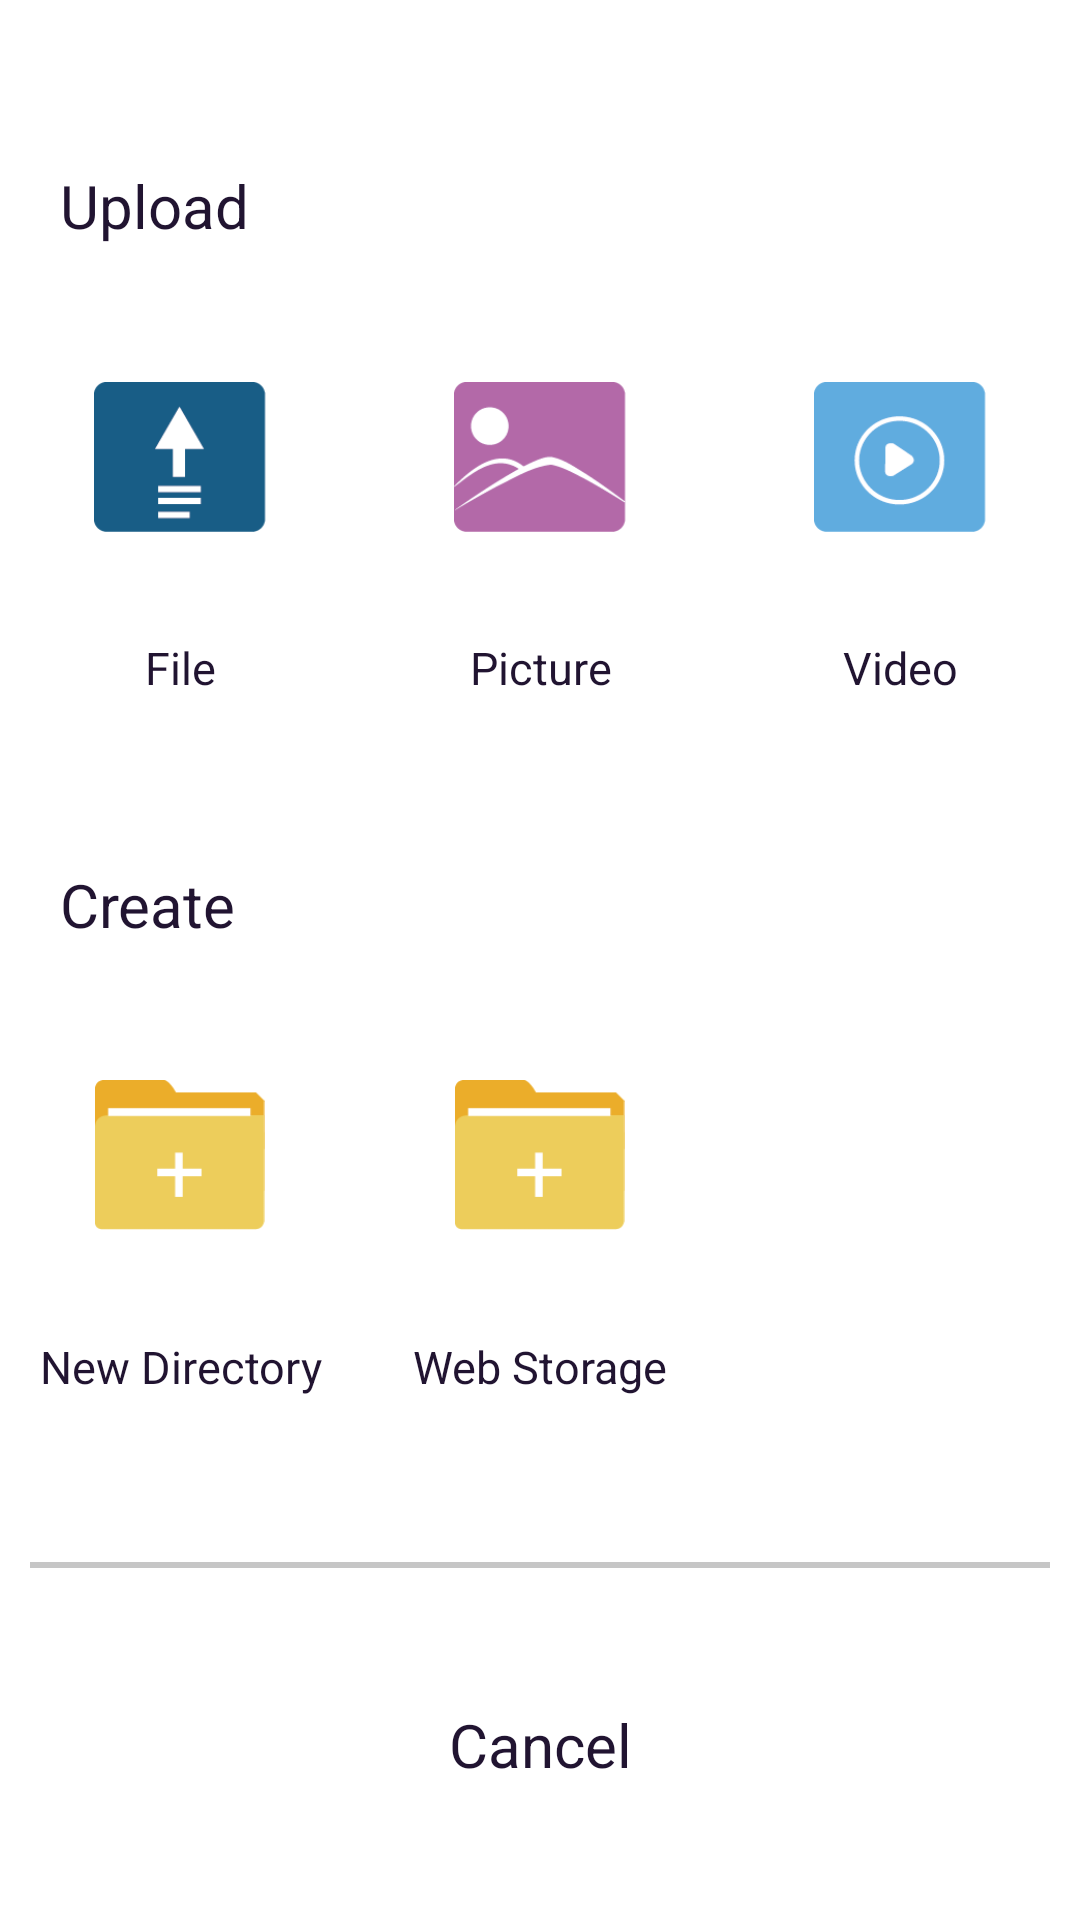

Icons on this 1080×1920 Android screen, each with its box as box=[x1, y1, x2, y2]:
page file upload directory: box=[95, 1080, 265, 1230], box=[455, 1080, 625, 1230]
